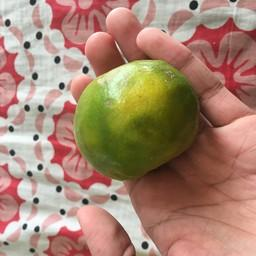Good_orange: (71, 66, 200, 176)
